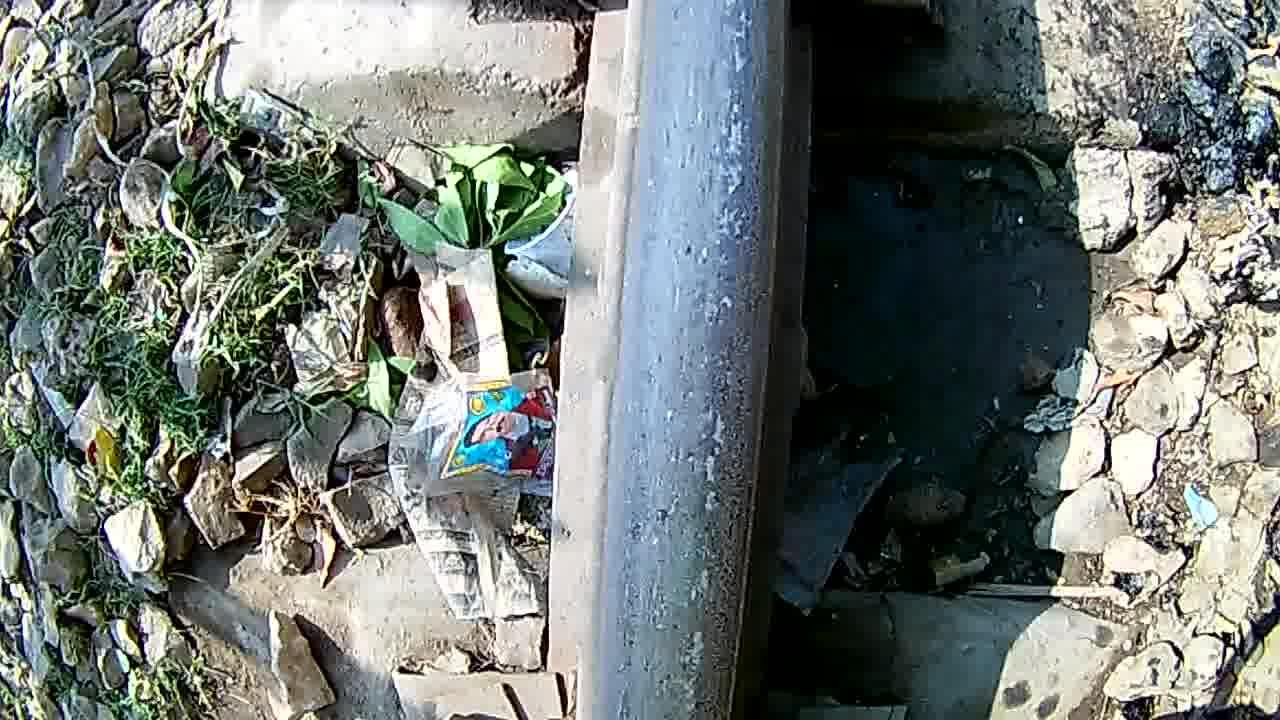clip_missing: (610, 0, 787, 716)
